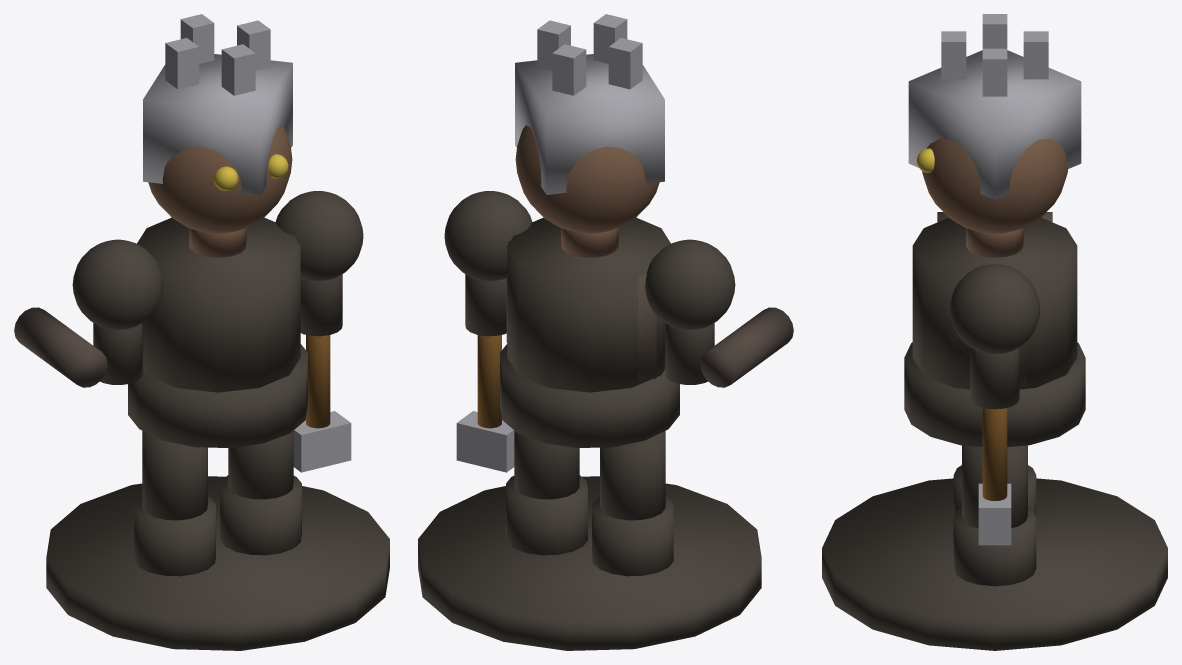
Rendered from Xed.glb.
The picture shows the model from 3 angles, left to right: view 1: azimuth 30°, elevation 25°; view 2: azimuth 150°, elevation 25°; view 3: azimuth 270°, elevation 25°; orthographic projection.
Visible parts, largest first — view 1: B_Rook; view 2: B_Rook; view 3: B_Rook.
Part boxes in pixels (box(x1,y1,x2,y2)): B_Rook: box(14, 14, 389, 650); B_Rook: box(418, 14, 793, 650); B_Rook: box(822, 14, 1167, 650).
Bounding box in the file's own units: 0.91 × 1.45 × 0.84.
